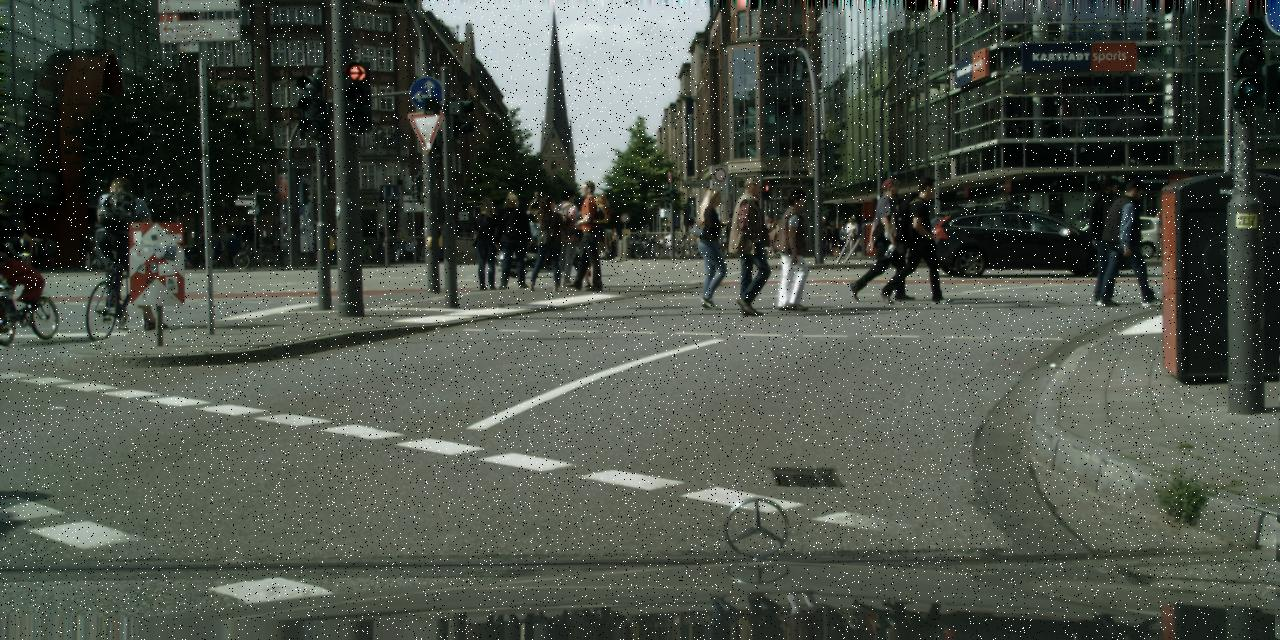ped: (98, 177, 154, 315), (723, 178, 778, 315), (894, 178, 946, 304), (1106, 180, 1158, 306), (1081, 179, 1132, 303), (858, 178, 908, 301), (768, 188, 818, 310), (686, 188, 735, 309), (563, 180, 608, 290), (0, 195, 33, 319), (544, 188, 584, 286), (493, 190, 533, 288), (526, 194, 566, 290), (468, 197, 506, 289), (563, 200, 598, 286), (722, 212, 739, 256), (764, 215, 780, 257), (843, 217, 858, 255), (846, 214, 860, 250), (226, 231, 240, 267), (78, 234, 92, 270), (31, 235, 45, 269), (210, 233, 223, 267), (826, 222, 839, 254), (42, 237, 55, 269), (836, 225, 848, 255), (824, 214, 832, 257)
